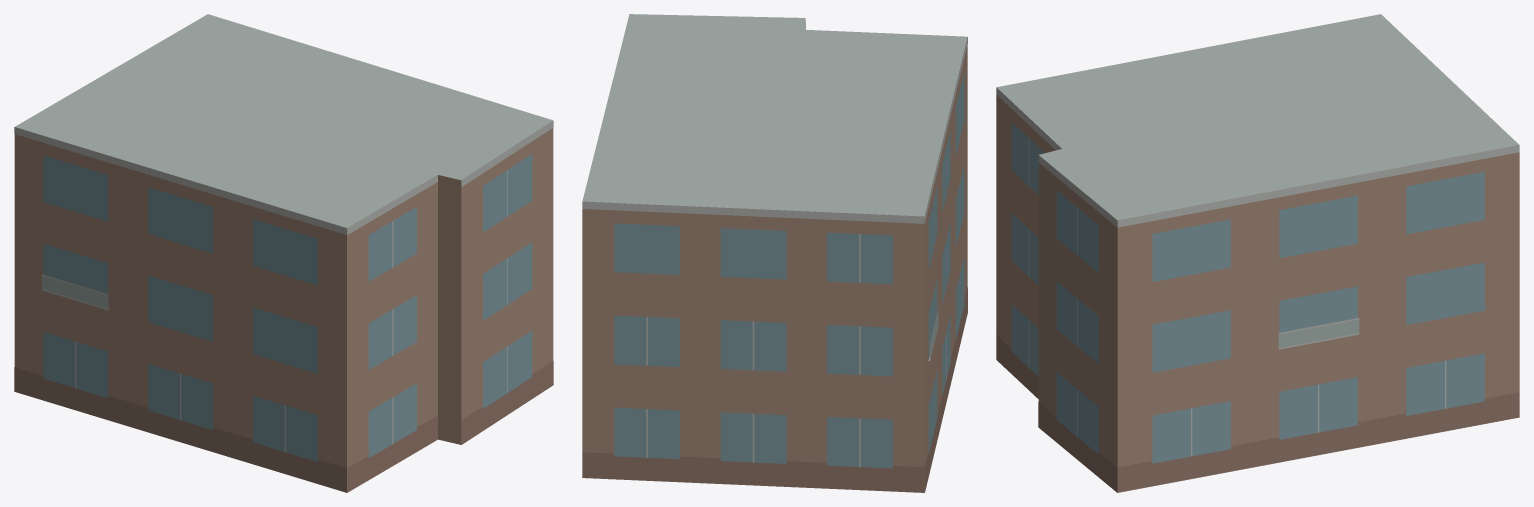
The model's file is survey-upis-33046825.glb.
The picture shows the model from 3 angles, left to right: view 1: azimuth 30°, elevation 25°; view 2: azimuth 150°, elevation 25°; view 3: azimuth 270°, elevation 25°; orthographic projection. The views are drawn at different scales.
Visible parts, largest first — view 1: survey-upis-33046825.tmp; view 2: survey-upis-33046825.tmp; view 3: survey-upis-33046825.tmp.
Boxes of the visible parts, box(x1,y1,x2,y2) form: survey-upis-33046825.tmp: box(14, 14, 553, 492); survey-upis-33046825.tmp: box(582, 14, 967, 492); survey-upis-33046825.tmp: box(996, 14, 1519, 492).
Bounding box in the file's own units: 14.88 × 9.15 × 15.93.
